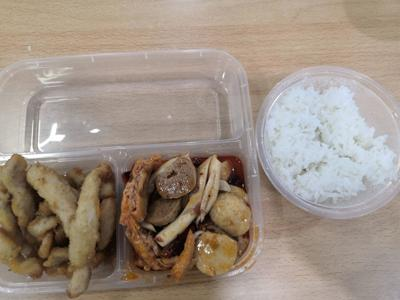rice: (257, 64, 400, 222)
